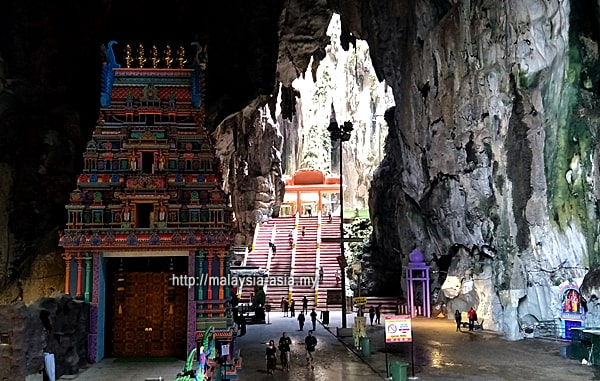Hindu Temple: (64, 37, 230, 323)
